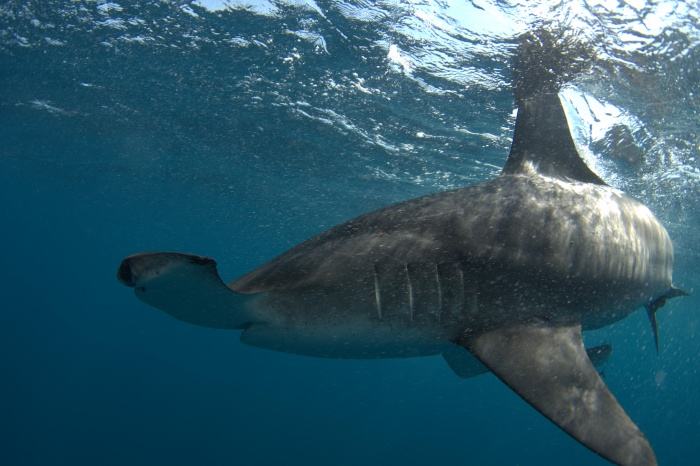Hammer: (51, 51, 700, 454)
